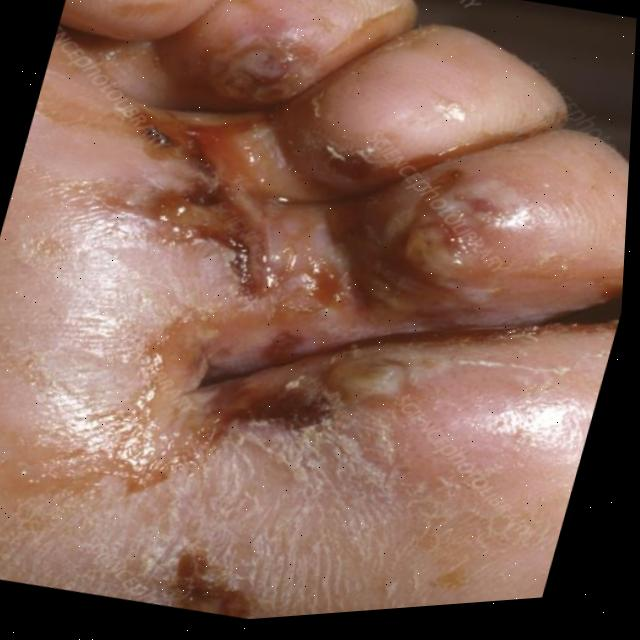Eczema: (0, 0, 594, 638)
